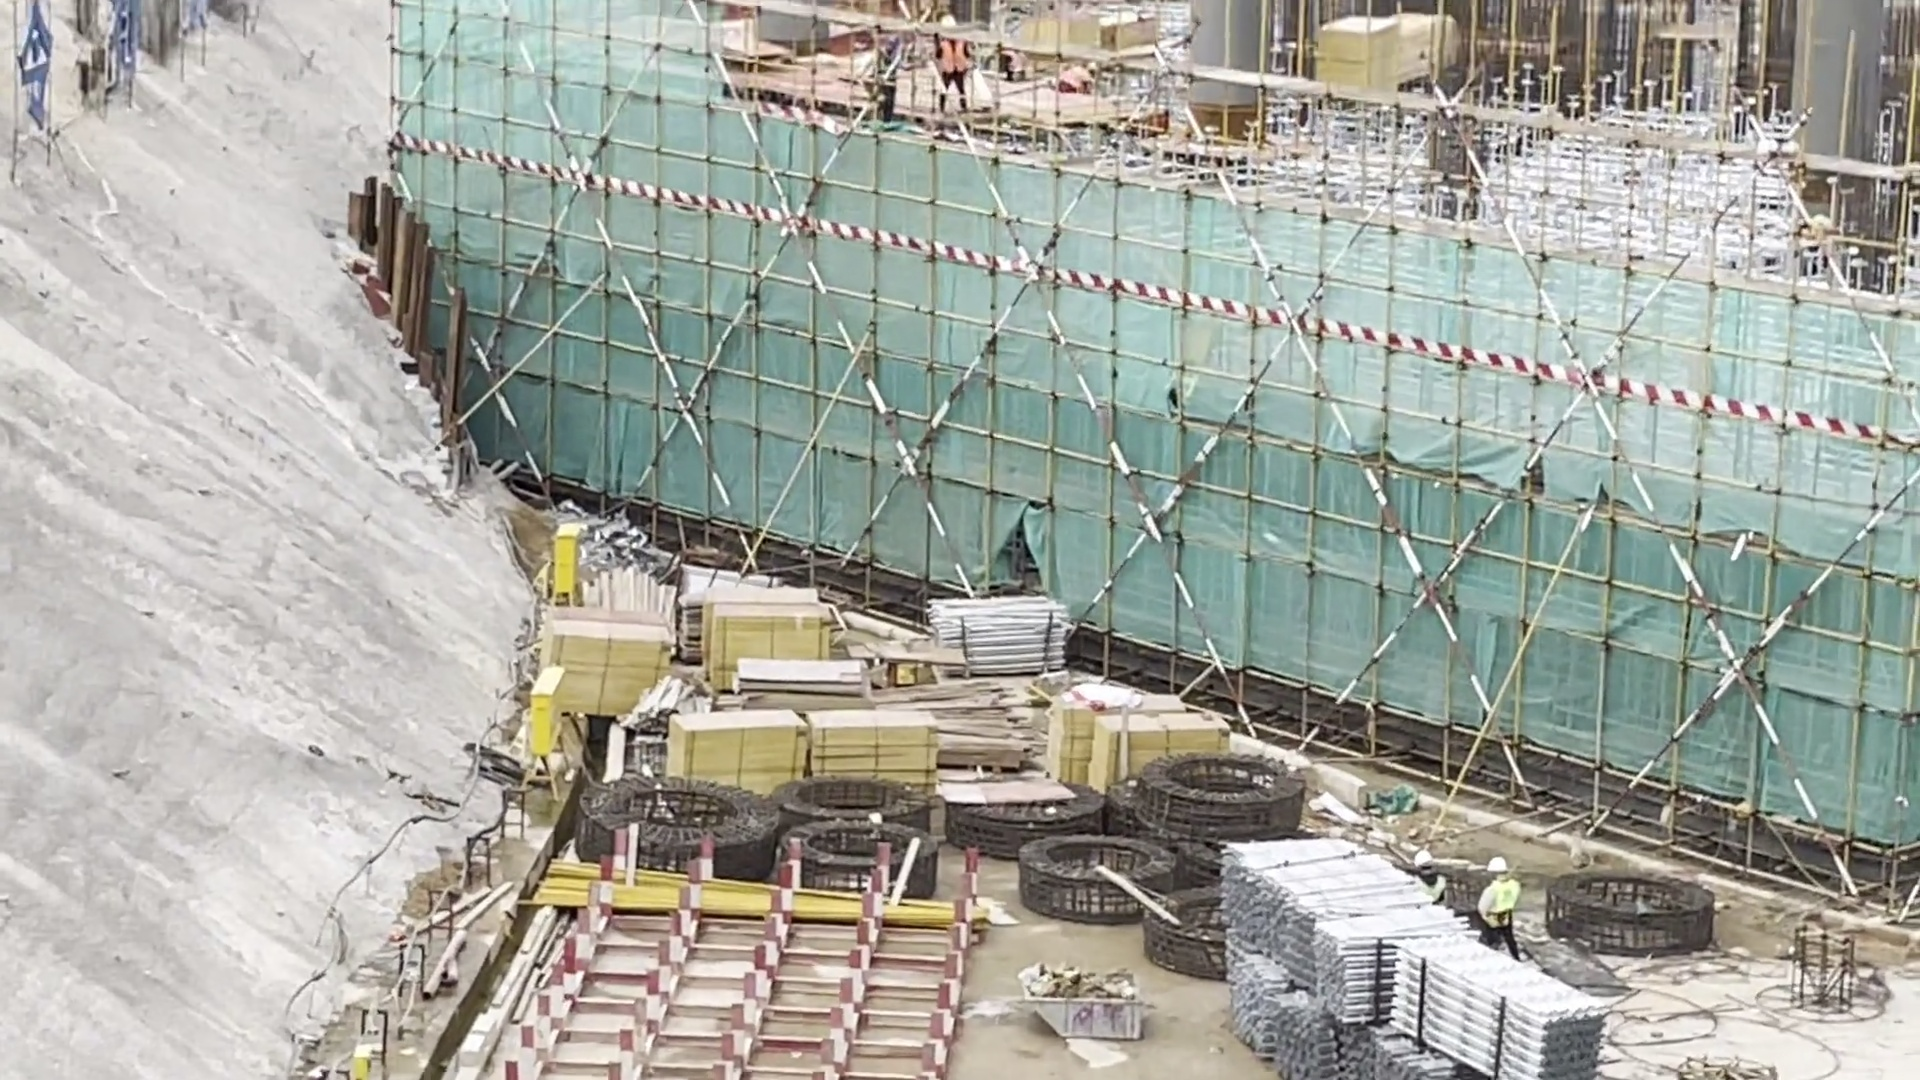ebox: (531, 664, 560, 798), (553, 525, 576, 609)
helmet: (1414, 848, 1433, 867), (1487, 856, 1506, 871), (941, 16, 955, 26), (890, 35, 899, 44)
hopper: (1022, 971, 1137, 1045)
person: (1477, 857, 1525, 959), (927, 15, 969, 124), (877, 34, 904, 124), (1404, 847, 1449, 898), (1060, 59, 1106, 91), (998, 48, 1027, 80)
scaffold: (1221, 833, 1610, 1080), (924, 590, 1061, 681)
vest: (939, 39, 968, 71), (1489, 882, 1517, 911), (1416, 877, 1443, 898), (881, 53, 894, 75)
